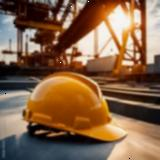Helmet: (22, 72, 129, 143)
